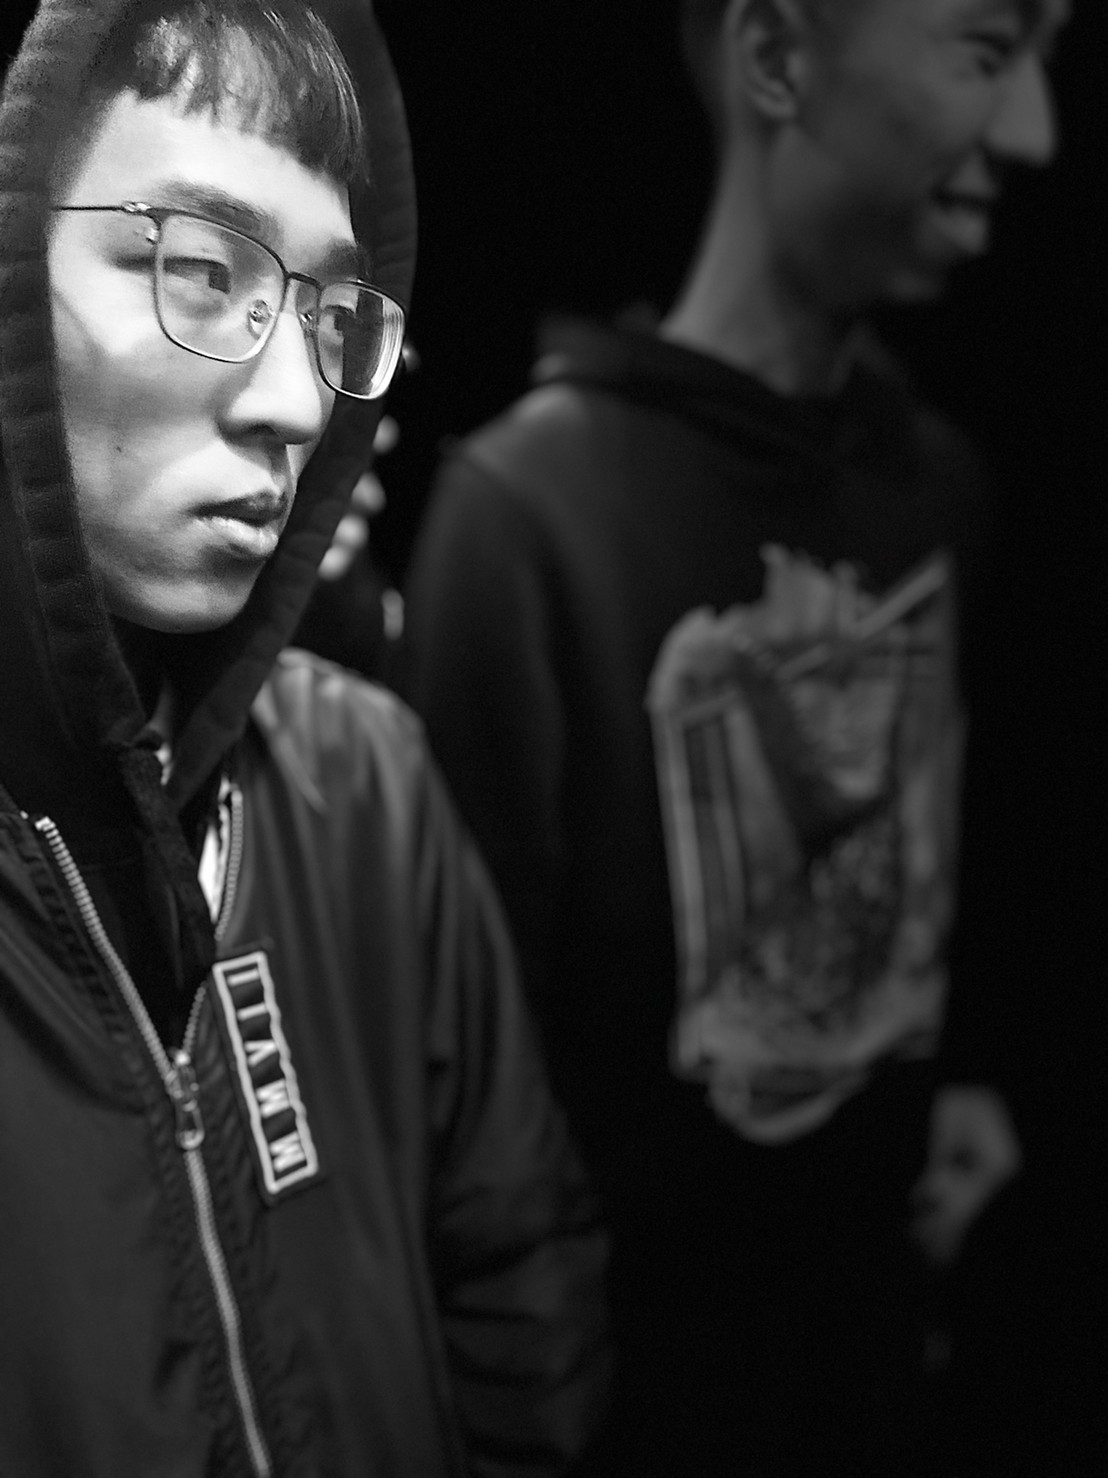people: (605, 7, 1047, 1381), (19, 12, 390, 1443)
